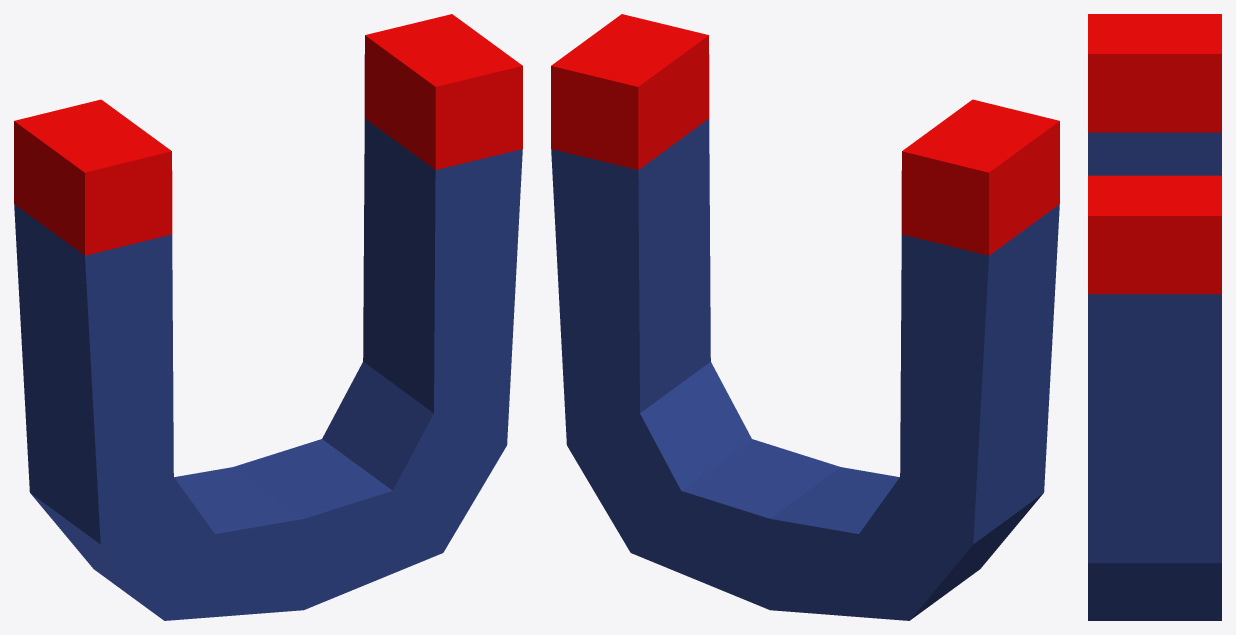
The model's file is Magnet.gltf.
The picture shows the model from 3 angles, left to right: view 1: azimuth 30°, elevation 25°; view 2: azimuth 150°, elevation 25°; view 3: azimuth 270°, elevation 25°; orthographic projection. The views are drawn at different scales.
Parts seen in each view (by area): view 1: Magnet_glb; view 2: Magnet_glb; view 3: Magnet_glb.
Part boxes in pixels (x1=…): Magnet_glb: x1=14, y1=14, x2=522, y2=620; Magnet_glb: x1=551, y1=14, x2=1059, y2=620; Magnet_glb: x1=1088, y1=14, x2=1221, y2=620.
Size of the model in its own units: 0.4899 by 0.5247 by 0.1372.
1 material, 1 textured.
